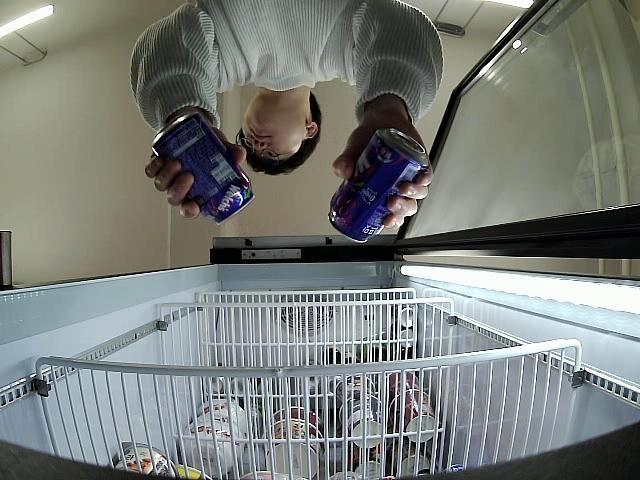14_welchsGrape: (152, 111, 255, 224), (328, 128, 428, 244)
